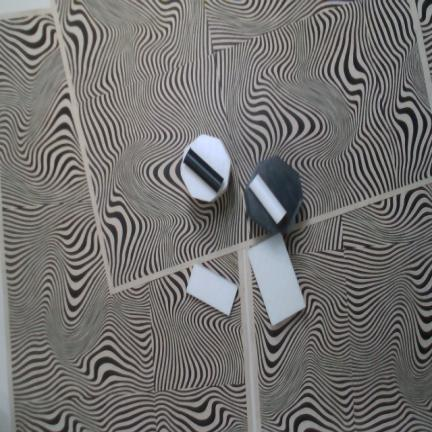Cilindro: (249, 174, 287, 224), (184, 148, 223, 193)
Paralelepipedo: (248, 232, 306, 327), (186, 264, 238, 316)
Prisma_hexagonal: (244, 157, 302, 234), (181, 135, 231, 203)
